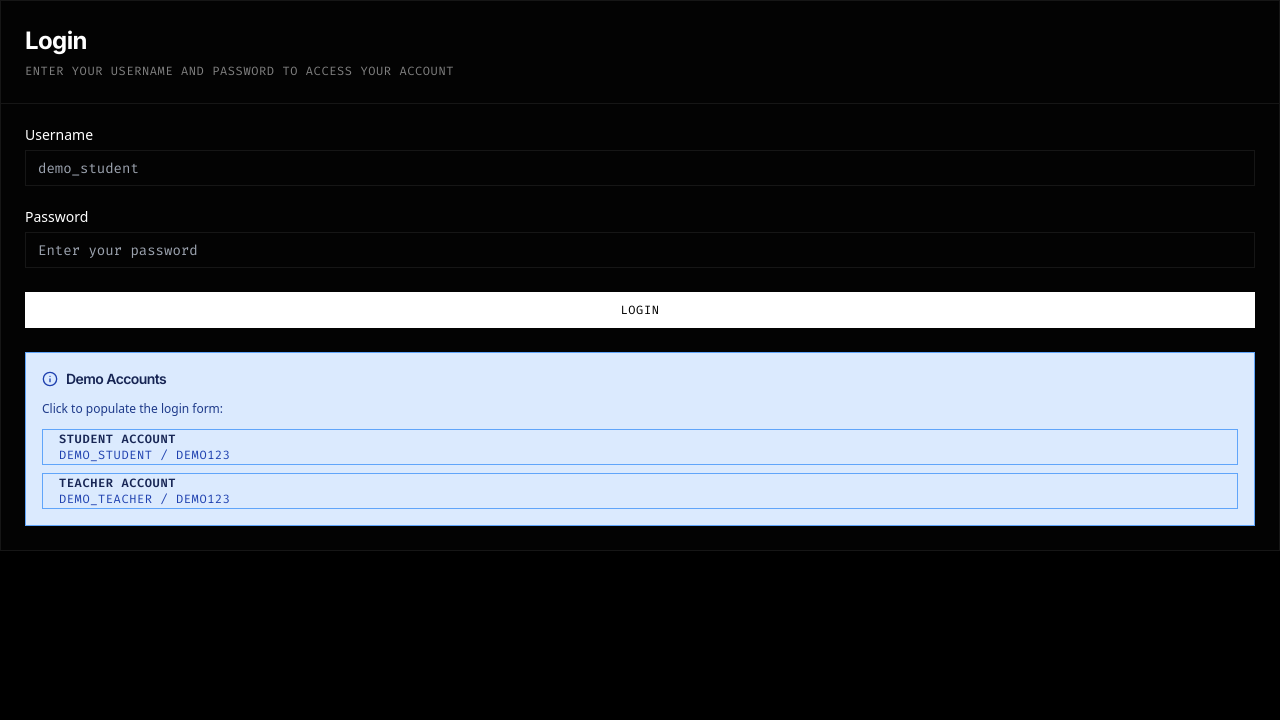
Test case: LoginForm › displays user-friendly error message on invalid credentials
Type "wrong_user" into the field labelled "Username" at [640, 168], box [25, 150, 1255, 186]
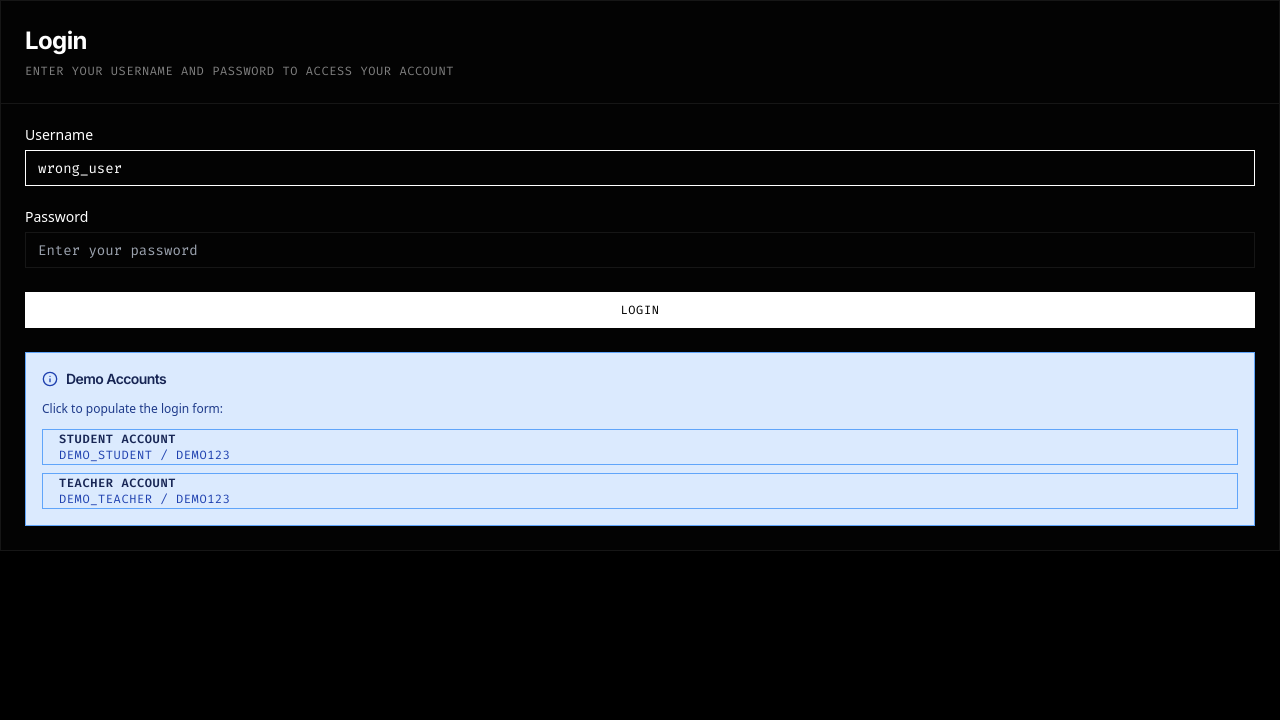
Type "wrong_pass" into the password field labelled "Password" at [640, 250], box [25, 232, 1255, 268]
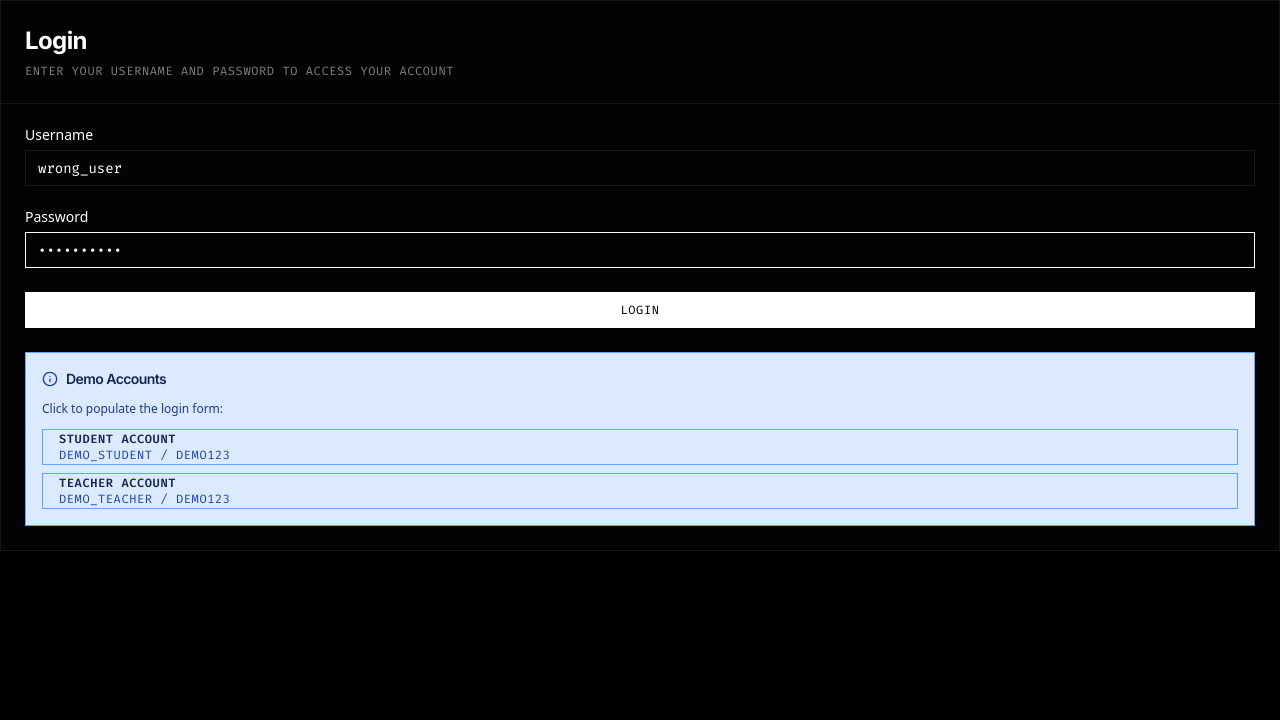
Click the button "Login" at [640, 310], box [25, 292, 1255, 328]
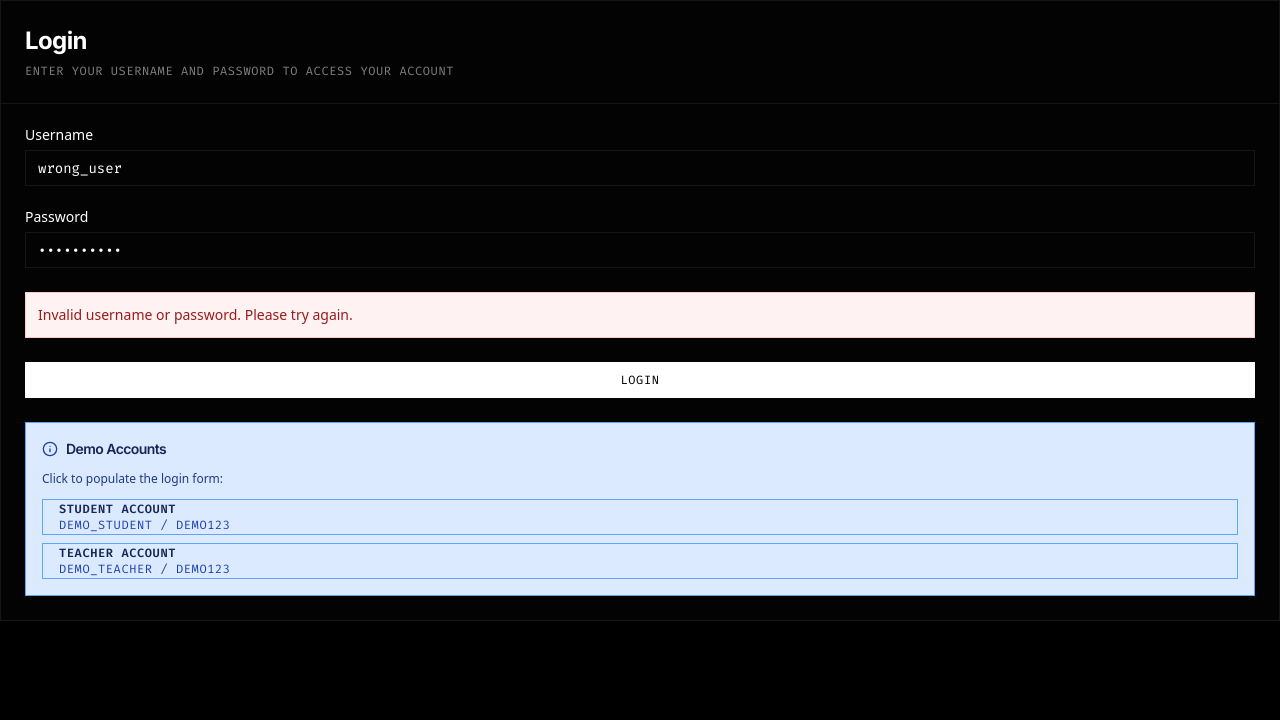
Expected: the message shows "Invalid username or password", [38, 305, 353, 324]
